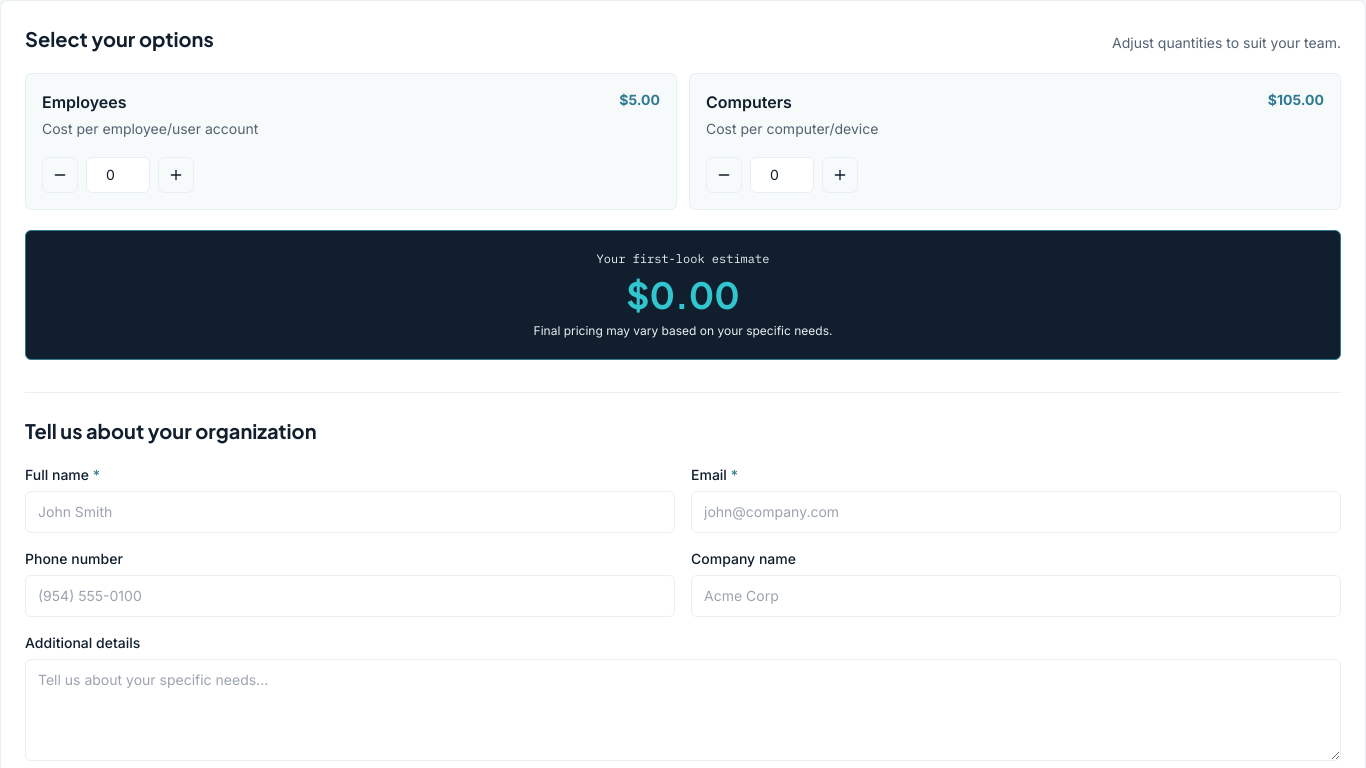
Test: DynamicPricingBuilder › builds the estimate from the units it read, with names trimmed
Expected: the headings read "Employees", "Computers", in this order, [42,92,126,112]; [706,92,792,112]
Expected: the text "$105.00" is shown, [1268,90,1324,110]
Click the button named "Increase Computers quantity" at (840, 175), box [822,157,858,193]
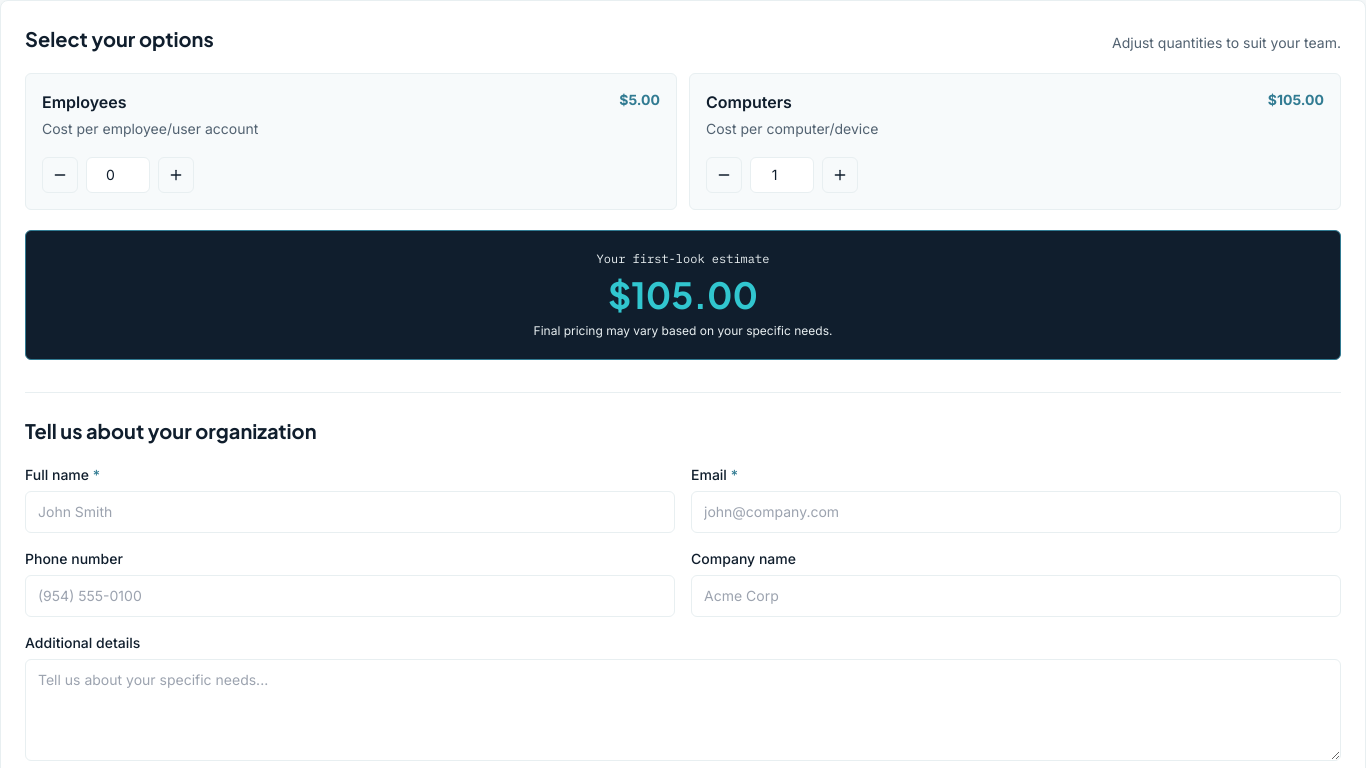
Click the button named "Increase Employees quantity" at (176, 175), box [158,157,194,193]
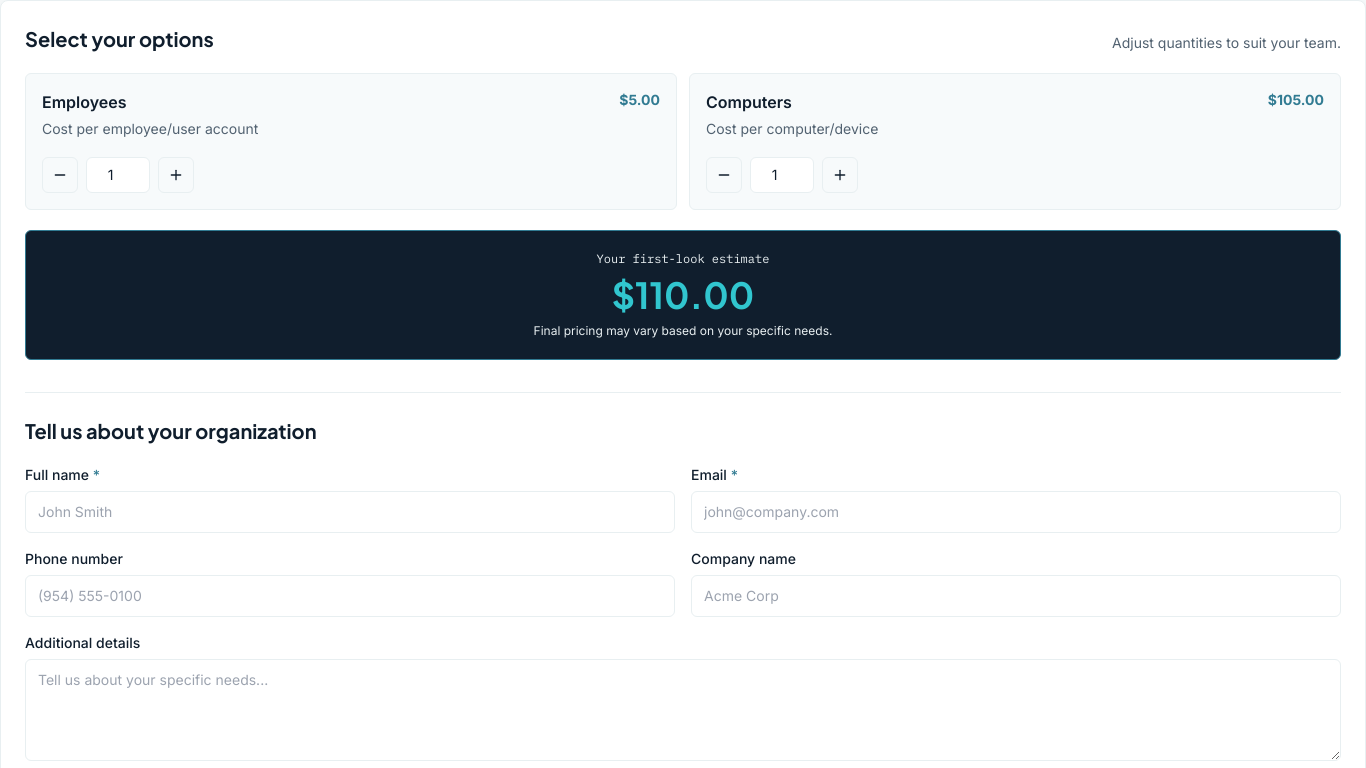
Note: A quantity stays within the unit's maximum.
Replace the text in the number field named "Computers quantity" below "Cost per computer/device" with "50" at (782, 175), box [750,157,814,193]
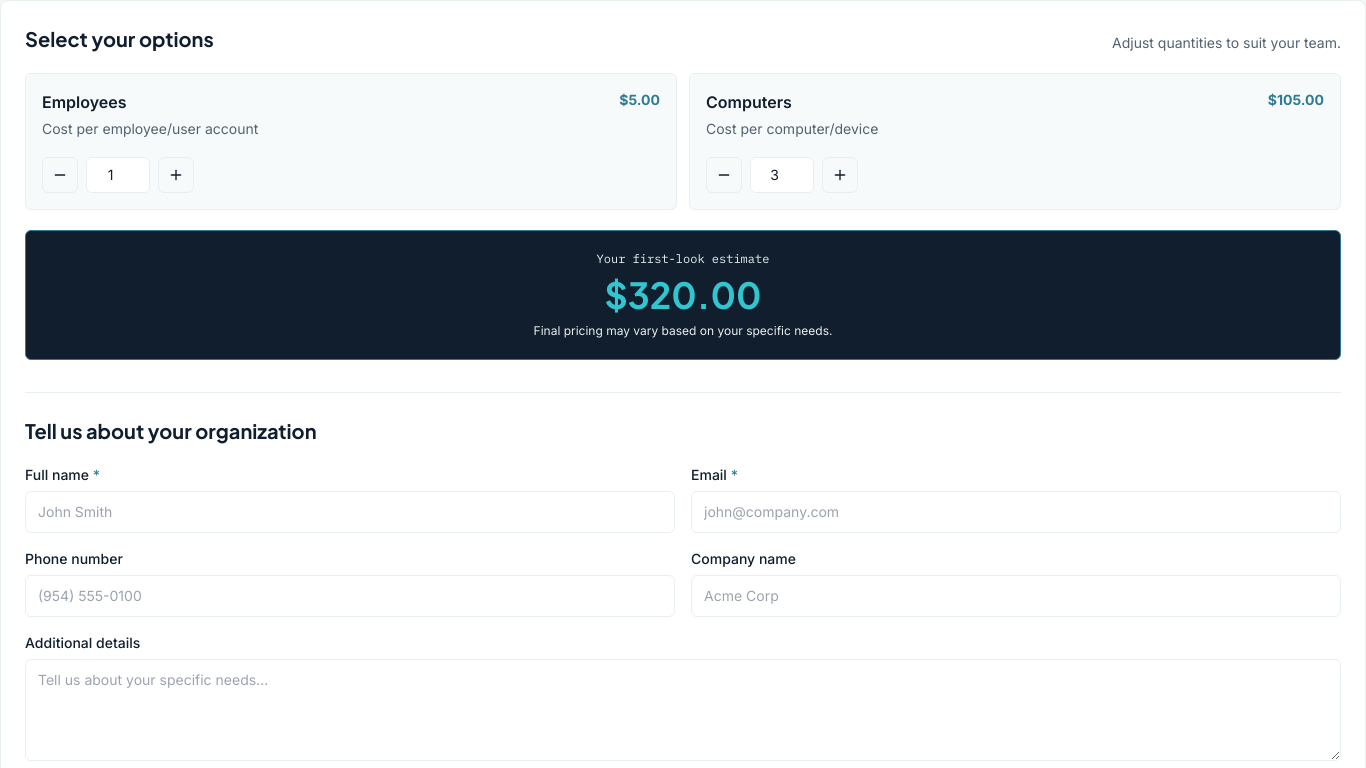
Expected: the number field named "Computers quantity" below "Cost per computer/device" holds "3", [750,157,814,193]
